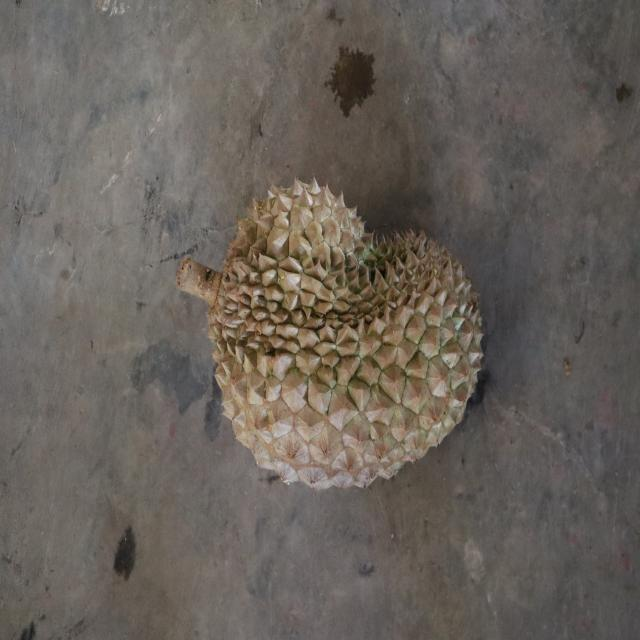mature: (204, 177, 487, 492)
